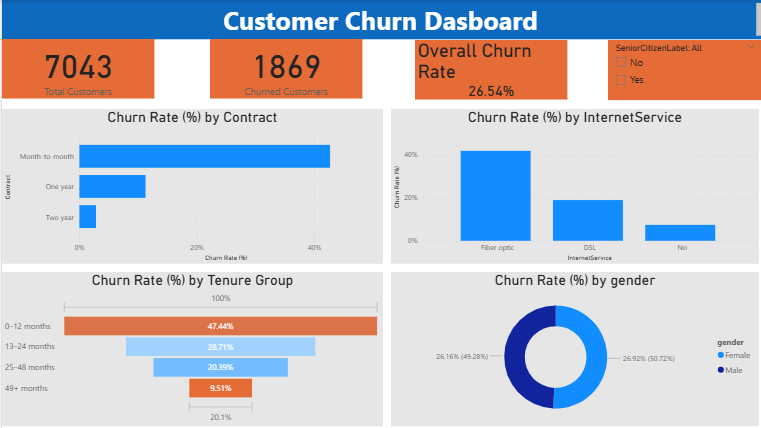

The page's visual inventory and layout, read from the dashboard file:
{"tool":"powerbi","page":{"name":"Page 1","canvas":[1280,720],"ordinal":0},"visuals":[{"type":"card","title":"Overall Churn Rate","fields":{"Values":["Telco-Customer-Churn.Churn Rate (%)"]},"box":[693.8,67.2,256,100],"z":0},{"type":"clusteredBarChart","fields":{"Category":["Telco-Customer-Churn.Contract"],"Y":["Telco-Customer-Churn.Churn Rate (%)"]},"box":[0,183.1,640,260.4],"z":1000},{"type":"funnel","fields":{"Y":["Telco-Customer-Churn.Churn Rate (%)"],"Category":["Telco-Customer-Churn.Tenure Group"]},"box":[0,456.9,640,258.7],"z":2000},{"type":"columnChart","fields":{"Category":["Telco-Customer-Churn.InternetService"],"Y":["Telco-Customer-Churn.Churn Rate (%)"]},"box":[653.4,183.1,618.2,260.4],"z":3000},{"type":"slicer","fields":{"Values":["Telco-Customer-Churn.SeniorCitizenLabel"]},"box":[1018,67.2,260,100.8],"z":5000},{"type":"textbox","box":[0,0,1280,65.5],"z":6000},{"type":"donutChart","fields":{"Category":["Telco-Customer-Churn.gender"],"Y":["Telco-Customer-Churn.Churn Rate (%)"]},"box":[653.4,456.9,618.2,258.7],"z":6001},{"type":"card","fields":{"Values":["Telco-Customer-Churn.Churned Customers"]},"box":[349.4,65.5,256,100],"z":6002},{"type":"card","fields":{"Values":["Telco-Customer-Churn.Total Customers"]},"box":[0,65.5,256,100],"z":6003}]}

Visuals, with their boxes in screenshot pixels (x1, y1, x2, y2), scaled from the page's 1280x720 canvas onto the 761x428 screenshot:
"Overall Churn Rate" card: (x1=412, y1=40, x2=565, y2=99)
clusteredBarChart - Telco-Customer-Churn.Contract x Telco-Customer-Churn.Churn Rate (%): (x1=0, y1=109, x2=380, y2=264)
funnel - Telco-Customer-Churn.Churn Rate (%) x Telco-Customer-Churn.Tenure Group: (x1=0, y1=272, x2=380, y2=425)
columnChart - Telco-Customer-Churn.InternetService x Telco-Customer-Churn.Churn Rate (%): (x1=388, y1=109, x2=756, y2=264)
slicer - Telco-Customer-Churn.SeniorCitizenLabel: (x1=605, y1=40, x2=760, y2=100)
textbox: (x1=0, y1=0, x2=760, y2=39)
donutChart - Telco-Customer-Churn.gender x Telco-Customer-Churn.Churn Rate (%): (x1=388, y1=272, x2=756, y2=425)
card - Telco-Customer-Churn.Churned Customers: (x1=208, y1=39, x2=360, y2=98)
card - Telco-Customer-Churn.Total Customers: (x1=0, y1=39, x2=152, y2=98)
